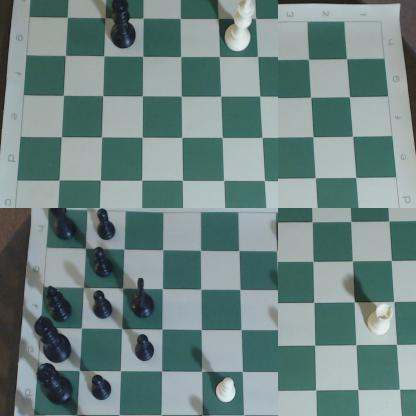black-bishop: (43, 286, 73, 322)
black-king: (106, 1, 149, 57), (36, 320, 77, 365)
black-knight: (131, 273, 157, 322)
black-pawn: (92, 249, 122, 284), (87, 286, 116, 322), (88, 373, 117, 407), (96, 209, 121, 242), (134, 333, 159, 365)
black-queen: (36, 363, 77, 411)
black-rook: (51, 209, 84, 245)
white-king: (223, 1, 261, 56)
white-pawn: (218, 376, 238, 408)
white-rook: (363, 304, 398, 343)
